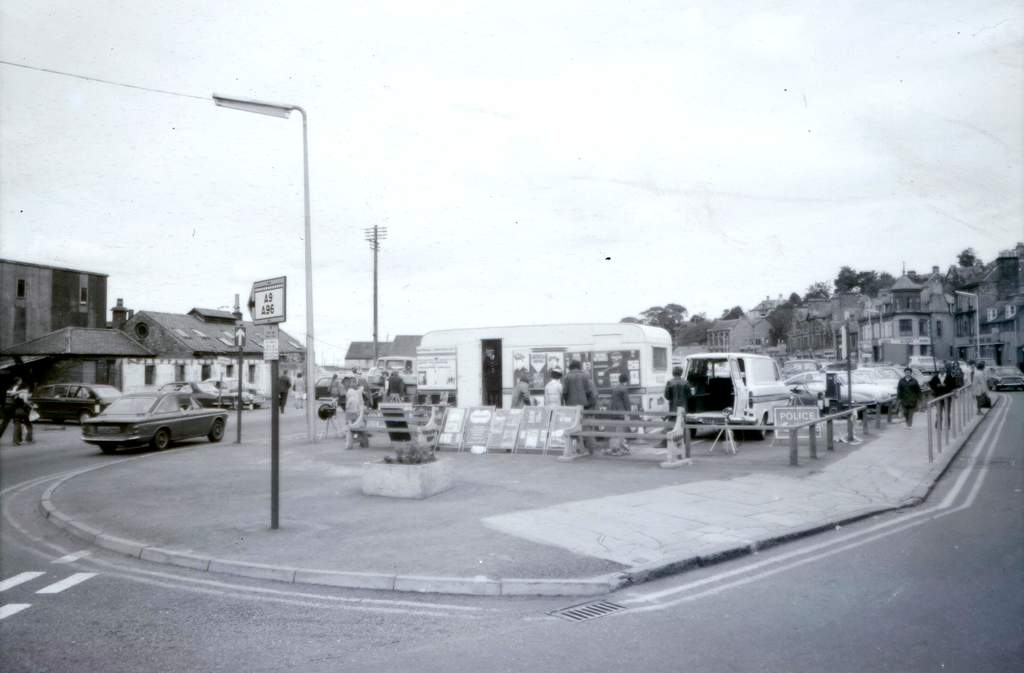Car: (778, 351, 948, 419), (65, 396, 220, 458), (27, 383, 125, 425), (163, 378, 227, 408), (207, 378, 267, 405), (983, 362, 1023, 389), (311, 373, 334, 399)
